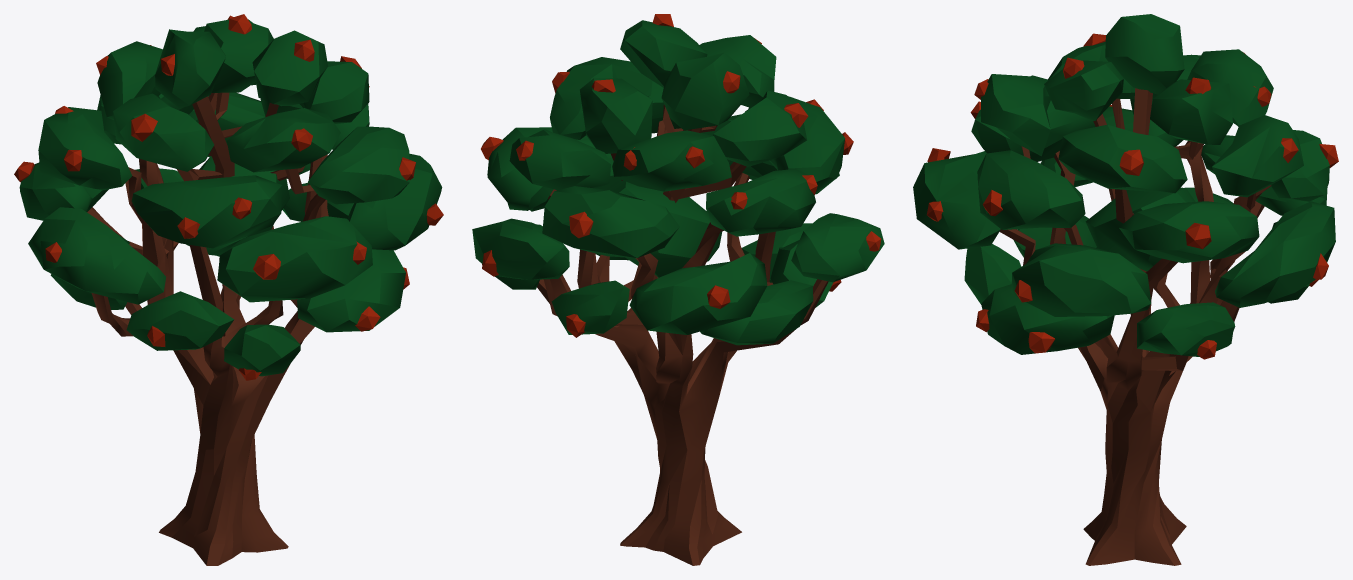
The model's file is Tree_1_Low_WF.fbx.
The picture shows the model from 3 angles, left to right: view 1: azimuth 30°, elevation 25°; view 2: azimuth 150°, elevation 25°; view 3: azimuth 270°, elevation 25°; orthographic projection. The views are drawn at different scales.
Parts seen in each view (by area): view 1: Tree_1_Low_WF; view 2: Tree_1_Low_WF; view 3: Tree_1_Low_WF.
Part boxes in pixels (x1,y1,x2,y2): Tree_1_Low_WF: [14, 14, 443, 565]; Tree_1_Low_WF: [472, 14, 884, 565]; Tree_1_Low_WF: [913, 14, 1338, 565].
Bounding box in the file's own units: 161 × 208 × 157.
